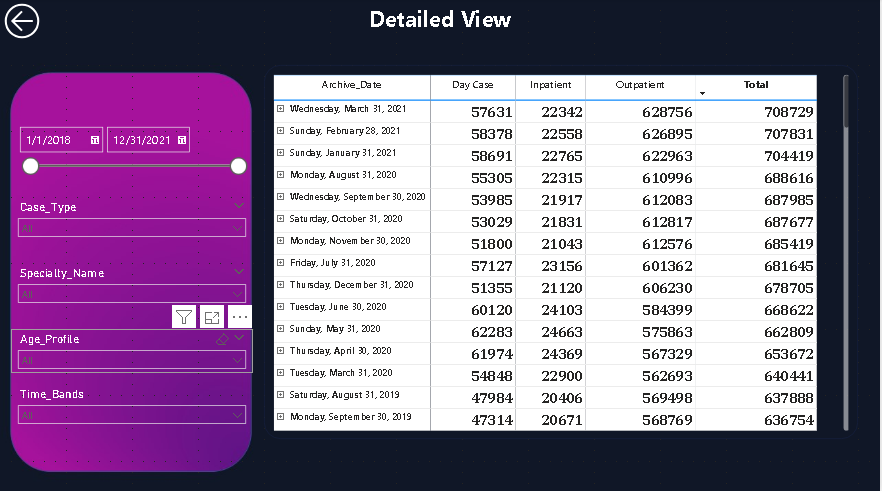

Layout of this report page (visuals, bound fields, positions):
{"tool":"powerbi","page":{"name":"Detail","canvas":[1280,720],"ordinal":1},"visuals":[{"type":"slicer","fields":{"Values":["All Data.Archive_Date"]},"box":[16,176,352,96],"z":0},{"type":"slicer","fields":{"Values":["All Data.Case_Type"]},"box":[16,288,352,80],"z":1000},{"type":"slicer","fields":{"Values":["All Data.Specialty_Name"]},"box":[16,384,352,80],"z":2000},{"type":"textbox","box":[0,0,1280,64],"z":3000},{"type":"slicer","fields":{"Values":["All Data.Age_Profile"]},"box":[16,480,352,64],"z":4000},{"type":"slicer","fields":{"Values":["All Data.Time_Bands"]},"box":[16,560,352,64],"z":5000},{"type":"pivotTable","fields":{"Rows":["All Data.Archive_Date","All Data.Speciality_Name","All Data.Time_Bands","All Data.Age_Profile","All Data.Archive_Date.Variation.Date Hierarchy.Year","All Data.Archive_Date.Variation.Date Hierarchy.Month"],"Columns":["All Data.Case_Type"],"Values":["Sum(All Data.Total)"]},"box":[384,96,864,544],"z":6000},{"type":"actionButton","box":[0,0,96,64],"z":7000}]}

Visuals, with their boxes in screenshot pixels (x1, y1, x2, y2), scaled from the page's 1280x720 canvas onto the 882x491 screenshot:
slicer - All Data.Archive_Date: bbox=(11, 120, 254, 185)
slicer - All Data.Case_Type: bbox=(11, 196, 254, 251)
slicer - All Data.Specialty_Name: bbox=(11, 262, 254, 316)
textbox: bbox=(0, 0, 881, 44)
slicer - All Data.Age_Profile: bbox=(11, 327, 254, 371)
slicer - All Data.Time_Bands: bbox=(11, 382, 254, 426)
pivotTable - All Data.Archive_Date x All Data.Speciality_Name: bbox=(265, 65, 860, 436)
actionButton: bbox=(0, 0, 66, 44)
